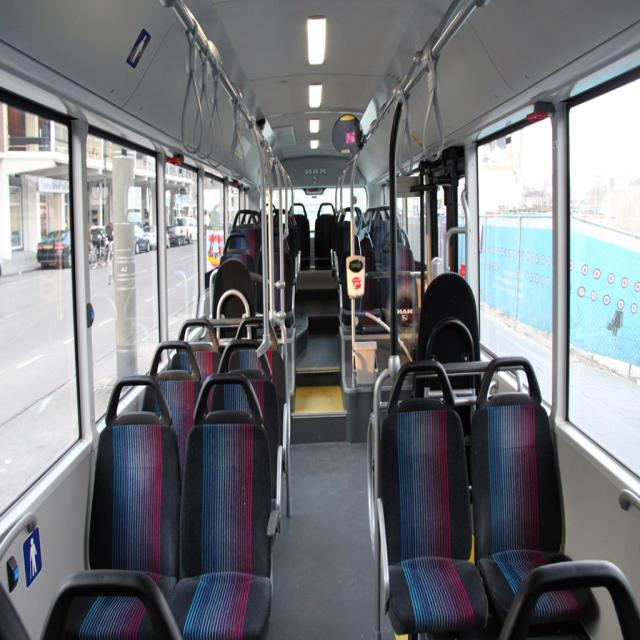asiento-libre: (44, 376, 181, 639), (470, 356, 589, 629), (378, 359, 488, 639), (378, 361, 488, 639), (169, 373, 273, 639), (78, 376, 183, 639), (171, 376, 274, 639), (472, 358, 570, 628), (218, 340, 286, 538), (217, 340, 282, 509), (150, 340, 222, 470), (149, 341, 201, 478), (226, 319, 280, 390), (212, 259, 258, 337), (528, 589, 599, 639), (340, 208, 375, 309), (177, 318, 226, 382), (178, 319, 221, 383), (370, 206, 409, 275), (335, 206, 351, 309), (218, 234, 256, 273), (219, 232, 254, 273), (314, 203, 335, 271), (314, 203, 336, 266), (291, 203, 311, 266), (232, 210, 262, 251), (293, 203, 310, 270)
